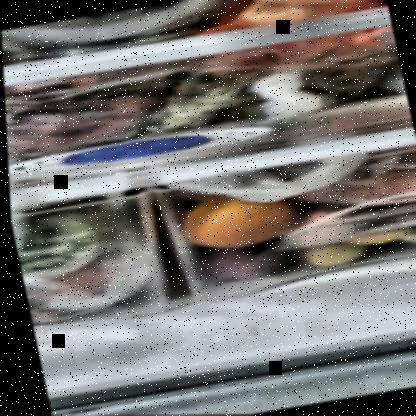lemon: (296, 226, 377, 275)
orange: (172, 183, 302, 253)
